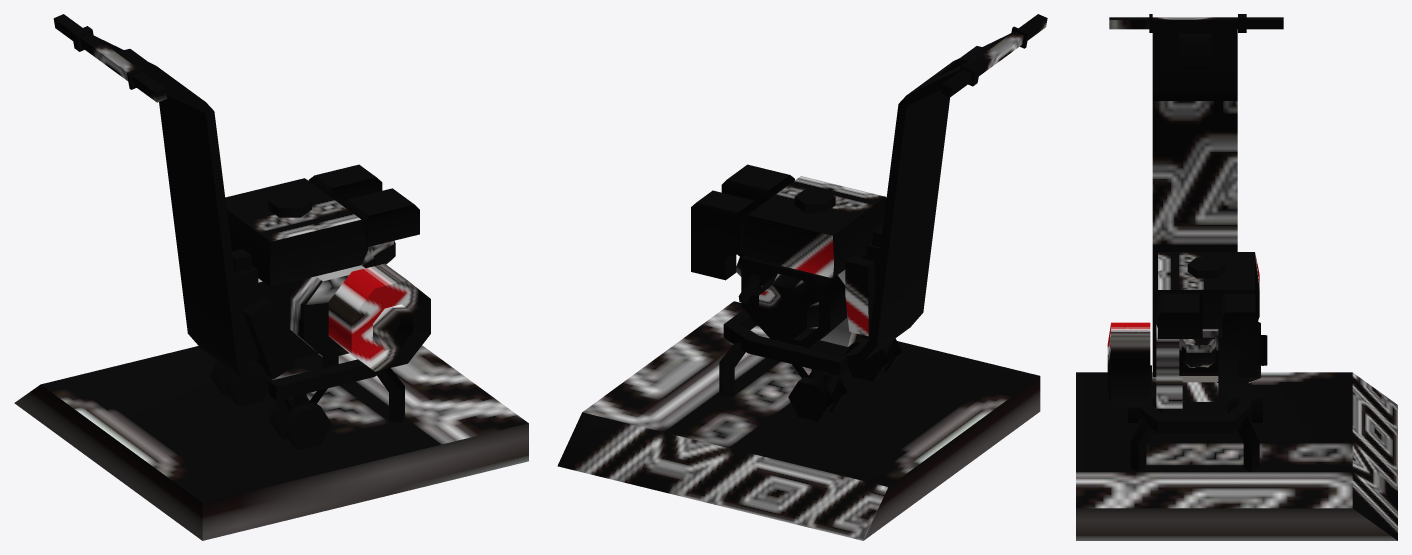
File: motogp.ico.obj
The picture shows the model from 3 angles, left to right: view 1: azimuth 30°, elevation 25°; view 2: azimuth 150°, elevation 25°; view 3: azimuth 270°, elevation 25°; orthographic projection. The views are drawn at different scales.
Bounding box in the file's own units: 4.17 × 4.97 × 3.81.
